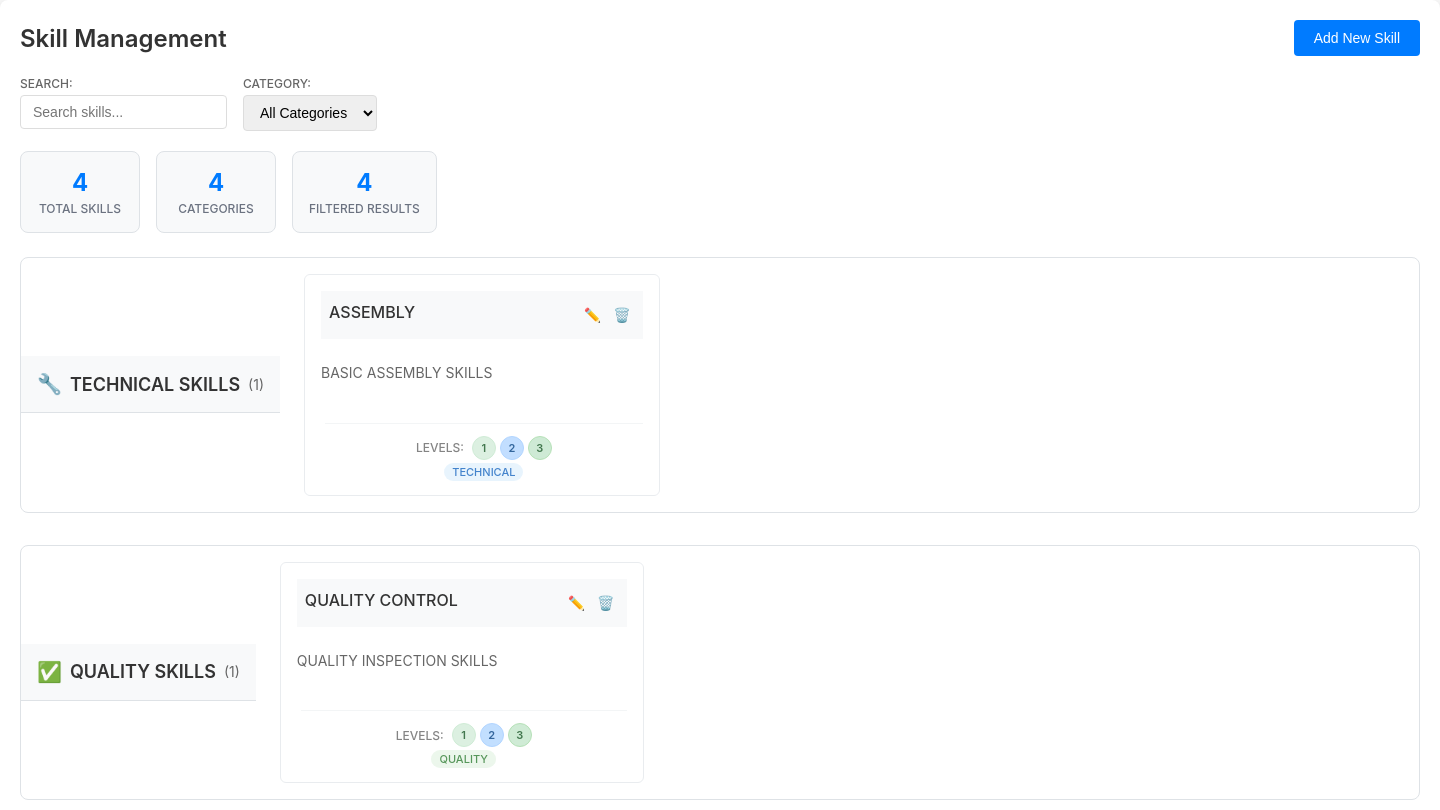
Scenario: SkillManagement › filters skills by search term
This screenshot has width=1440, height=810.
Type "Assembly" into the field with placeholder "Search skills...".
click(124, 112); type("Assembly")  # box left=20, top=95, right=227, bottom=129
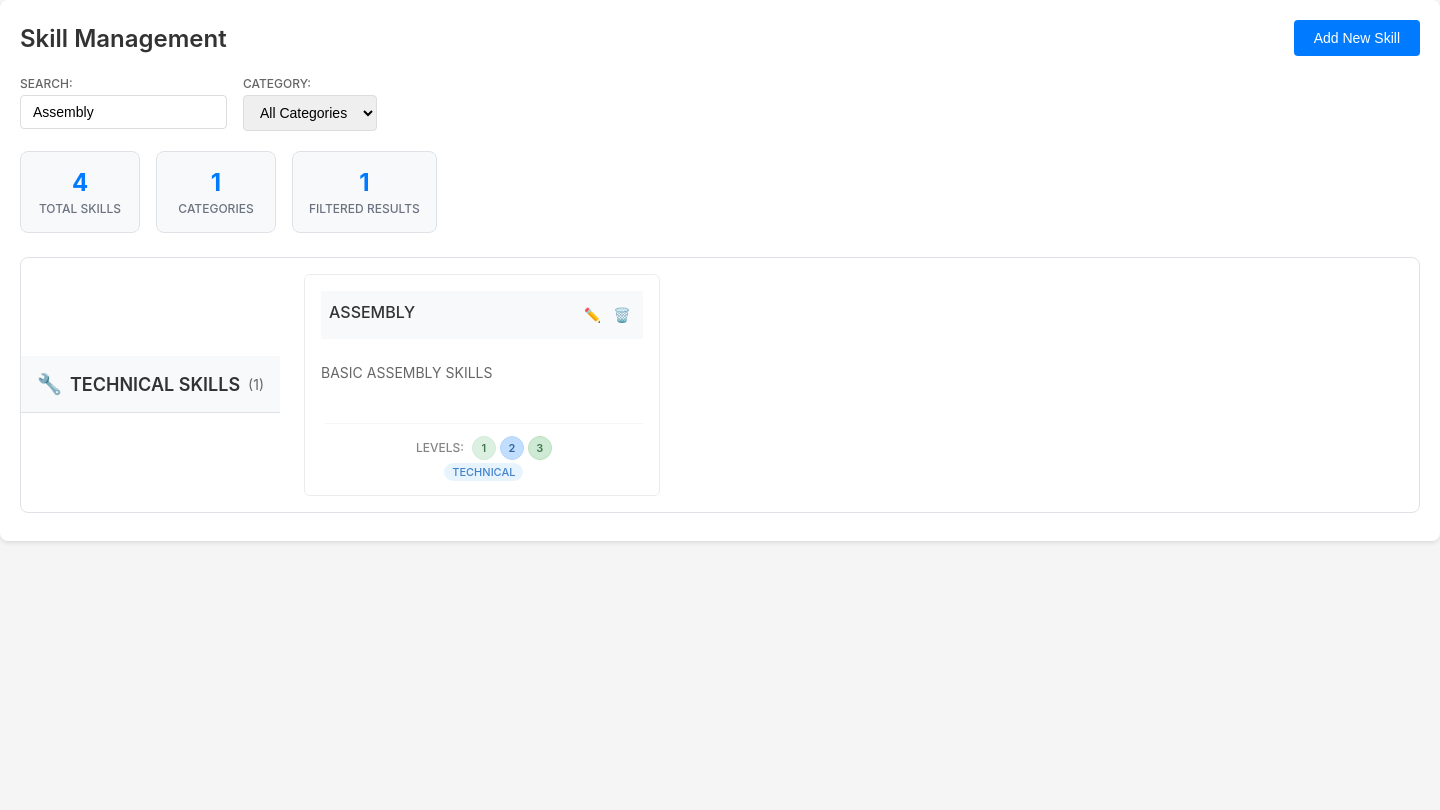
Expected: the heading "Assembly" is shown, left=329, top=302, right=415, bottom=322
Now the heading "Quality Control" is gone
